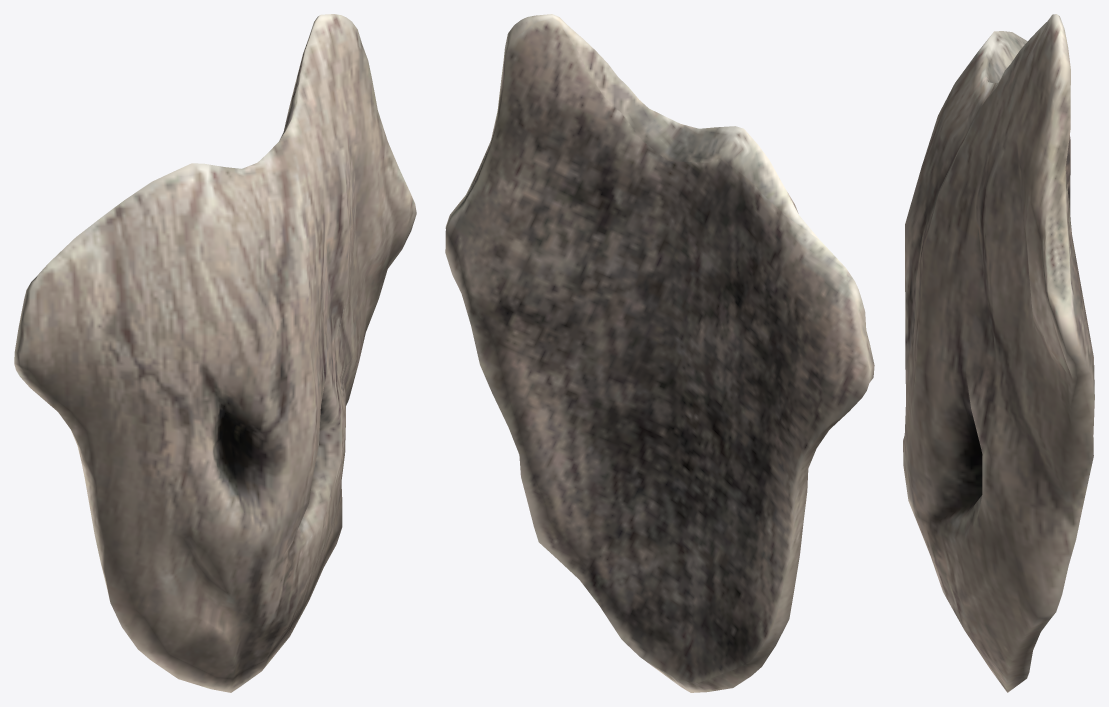
File: CorruptVillagerMask_02.fbx
3 views of the same model, side by side, from view 1: azimuth 30°, elevation 25°; view 2: azimuth 150°, elevation 25°; view 3: azimuth 270°, elevation 25° (orthographic). The views are drawn at different scales.
Parts seen in each view (by area): view 1: SM_CorruptVillager_Mask_02.mo; view 2: SM_CorruptVillager_Mask_02.mo; view 3: SM_CorruptVillager_Mask_02.mo.
Part boxes in pixels (box(x1,y1,x2,y2)): SM_CorruptVillager_Mask_02.mo: box(14, 14, 416, 692); SM_CorruptVillager_Mask_02.mo: box(445, 14, 874, 692); SM_CorruptVillager_Mask_02.mo: box(903, 14, 1094, 692).
Bounding box in the file's own units: 24.32 × 36.62 × 8.6.
1 material, 1 textured.
